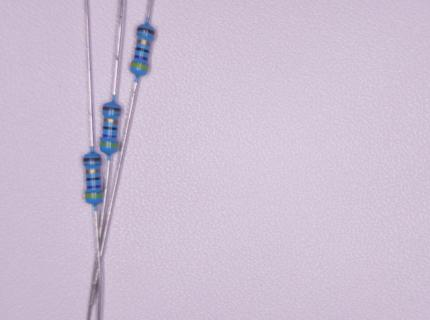Black band: (135, 47, 149, 54), (86, 177, 101, 181), (103, 126, 118, 130)
Brown band: (136, 27, 155, 36), (102, 106, 121, 112), (83, 158, 101, 162)
Gold band: (137, 39, 151, 46), (104, 117, 118, 124), (86, 169, 101, 174)
Violet band: (134, 54, 148, 61), (103, 133, 117, 138), (87, 185, 101, 189)
Yellow band: (130, 61, 149, 71), (100, 141, 118, 148), (85, 193, 103, 198)
